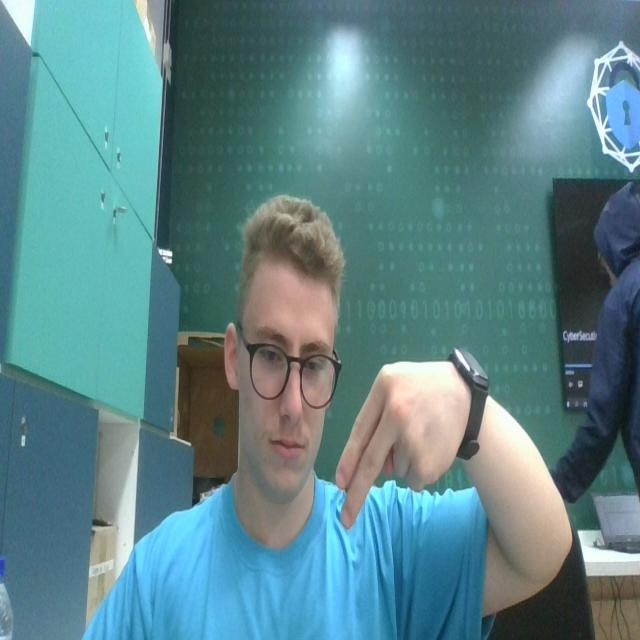N: (332, 340, 454, 536)
